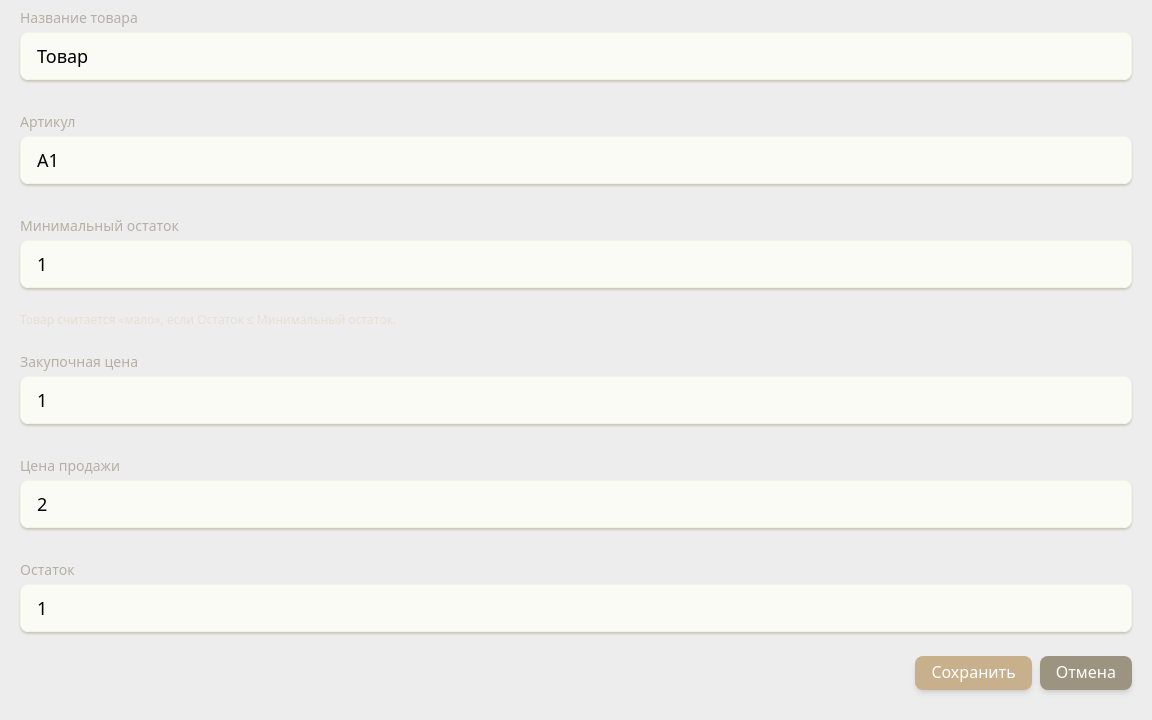
Test: EditProductForm validation › maps server validation errors
The width and height of the screenshot is (1152, 720).
Type "1" into the field labelled "Название товара".
click(576, 56); type("1")  # box [20, 32, 1132, 80]
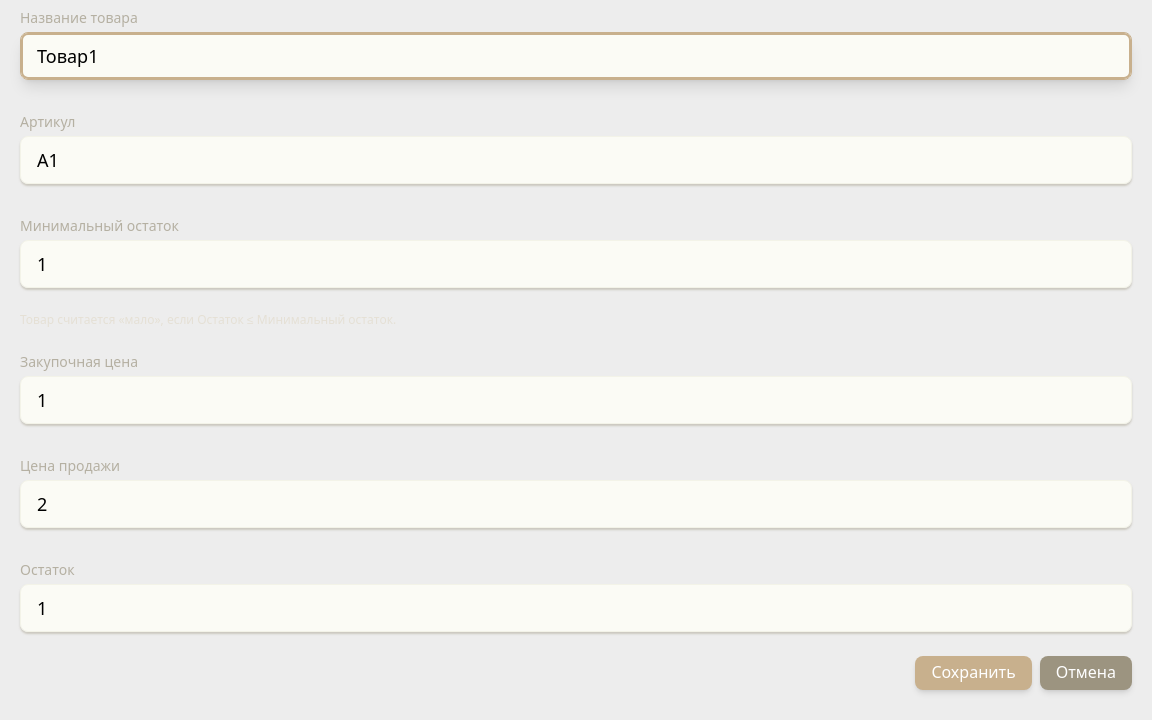
Click the button "Сохранить".
click(974, 673)  # box [915, 656, 1032, 690]
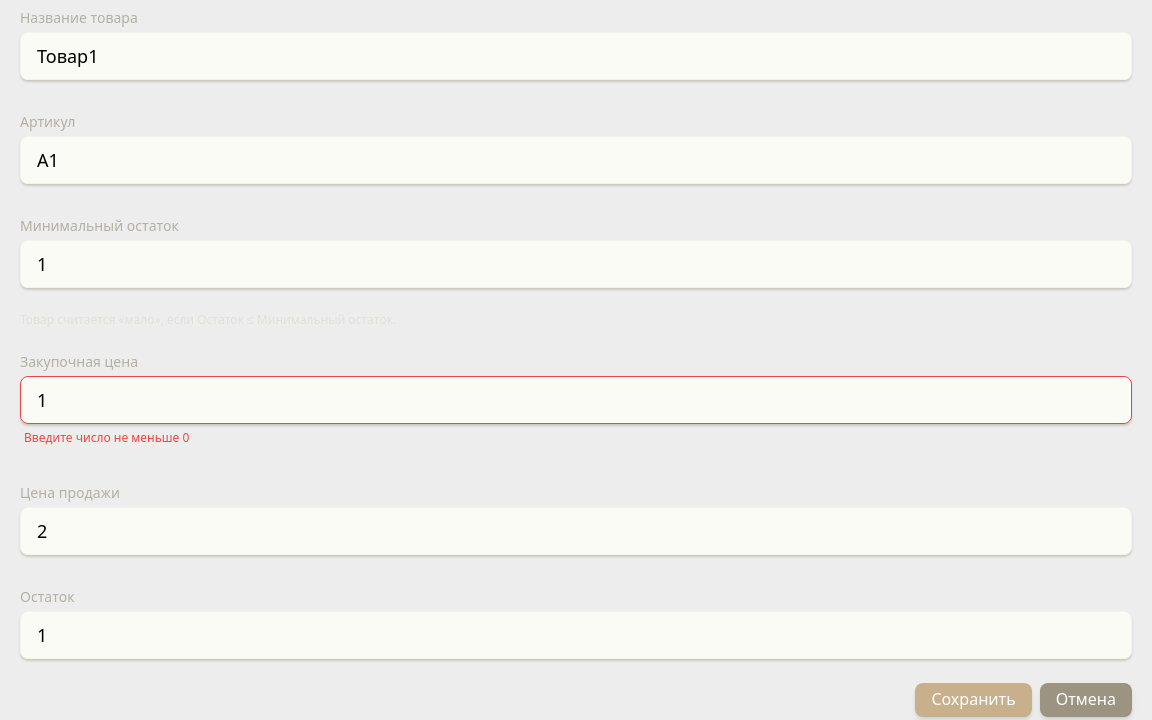
expect the text "Введите число не меньше 0" is shown: met, box [24, 429, 189, 446]
